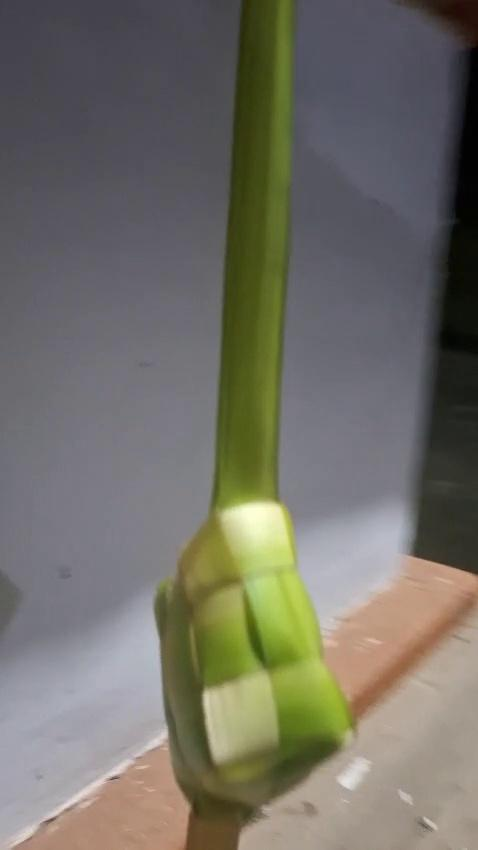Tipat Nasi: (152, 495, 361, 849)
